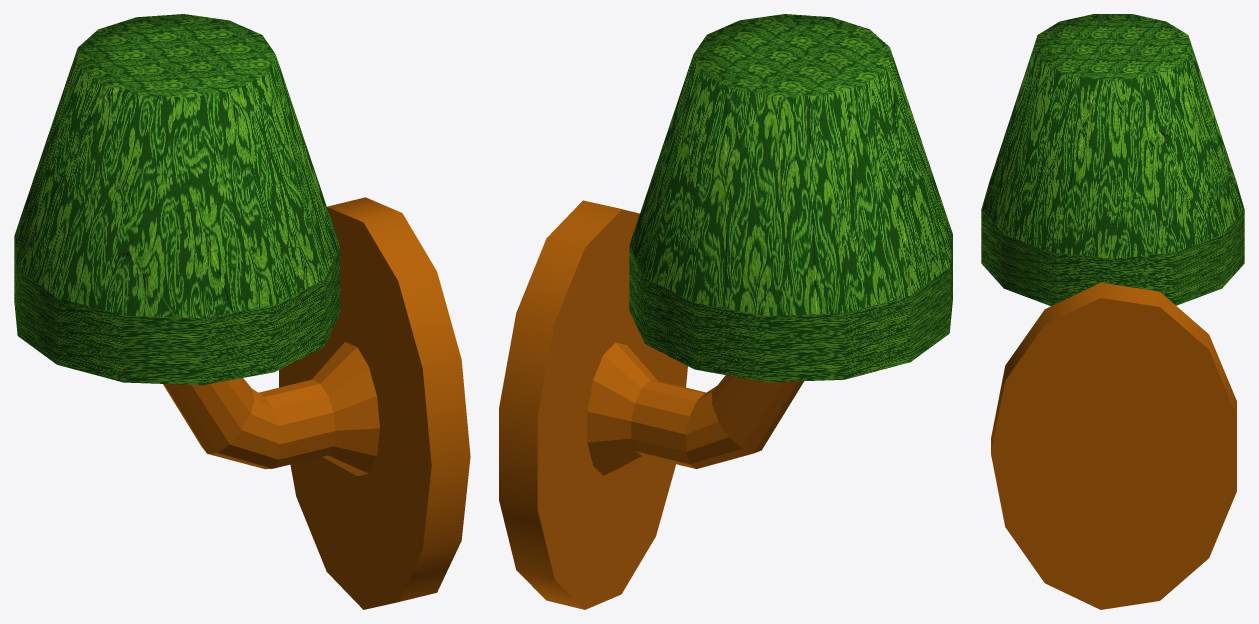
Rendered from kleine_lampe.FBX.
The picture shows the model from 3 angles, left to right: view 1: azimuth 30°, elevation 25°; view 2: azimuth 150°, elevation 25°; view 3: azimuth 270°, elevation 25°; orthographic projection. The views are drawn at different scales.
Parts seen in each view (by area): view 1: kleiner_lampenschirm, kleine_lampe; view 2: kleiner_lampenschirm, kleine_lampe; view 3: kleine_lampe, kleiner_lampenschirm.
Part boxes in pixels (left/top/right/bottom): kleiner_lampenschirm: left=14, top=14, right=340, bottom=385; kleine_lampe: left=163, top=197, right=470, bottom=609; kleiner_lampenschirm: left=629, top=14, right=952, bottom=382; kleine_lampe: left=499, top=200, right=803, bottom=609; kleine_lampe: left=991, top=282, right=1236, bottom=609; kleiner_lampenschirm: left=981, top=14, right=1244, bottom=305.
Bounding box in the file's own units: 6.38 × 10.09 × 5.05.
Materials: 2 (1 with a texture image).
